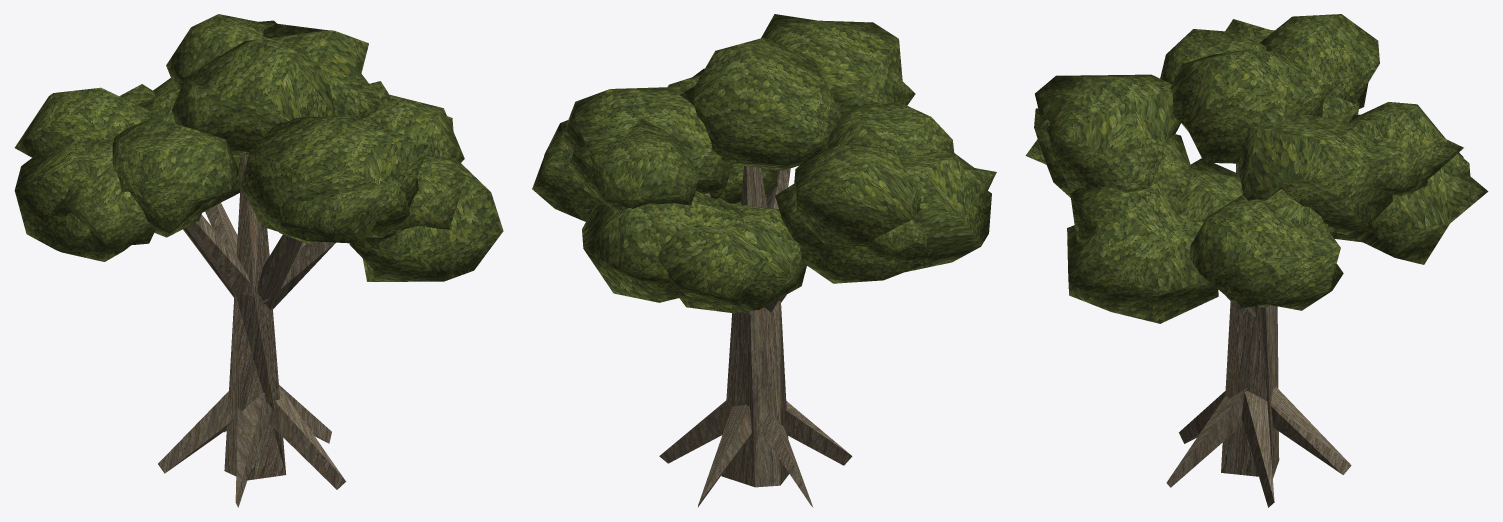
Rendered from tree_oak_a.gltf.
3 renders of one model, left to right at view 1: azimuth 30°, elevation 25°; view 2: azimuth 150°, elevation 25°; view 3: azimuth 270°, elevation 25°, orthographic.
Visible parts, largest first — view 1: tree_oak_a_game; view 2: tree_oak_a_game; view 3: tree_oak_a_game.
Part boxes in pixels (x1=…): tree_oak_a_game: x1=14, y1=14, x2=503, y2=507; tree_oak_a_game: x1=532, y1=14, x2=996, y2=507; tree_oak_a_game: x1=1025, y1=14, x2=1488, y2=507.
Bounding box in the file's own units: 0.4973 × 0.4772 × 0.4733.
Materials: 2 (2 with a texture image).
